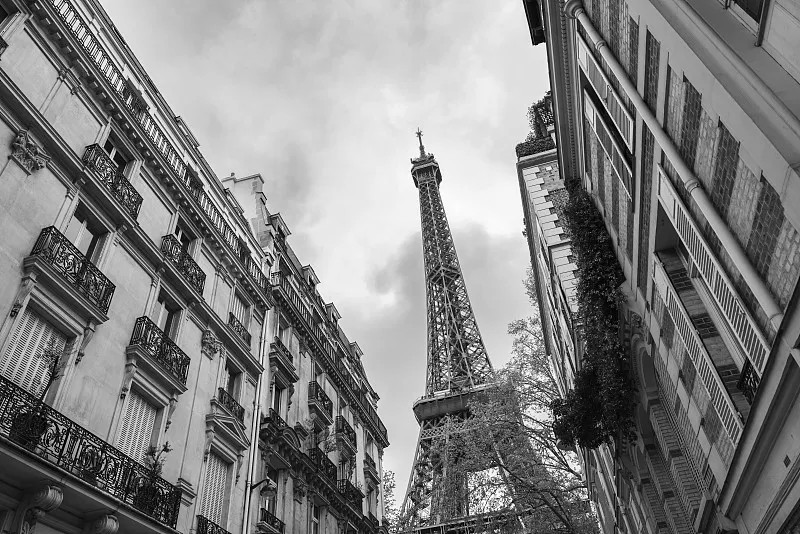Eiffel: (392, 127, 600, 534)
